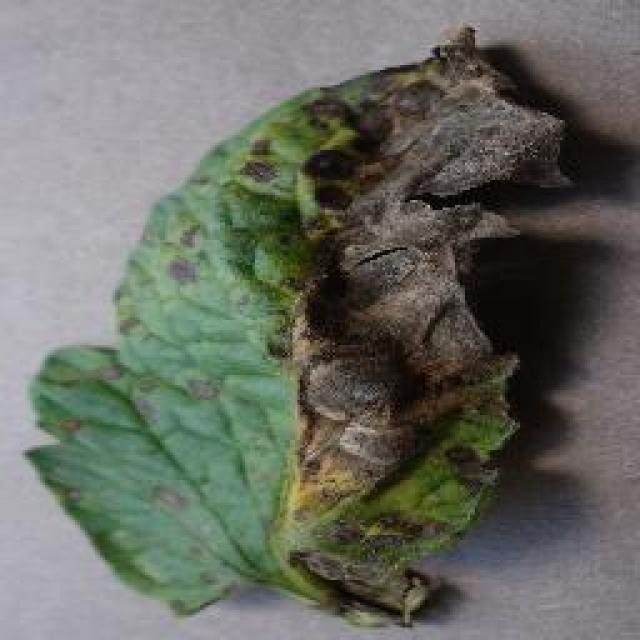Tomato___Early_blight: (16, 21, 580, 633)
